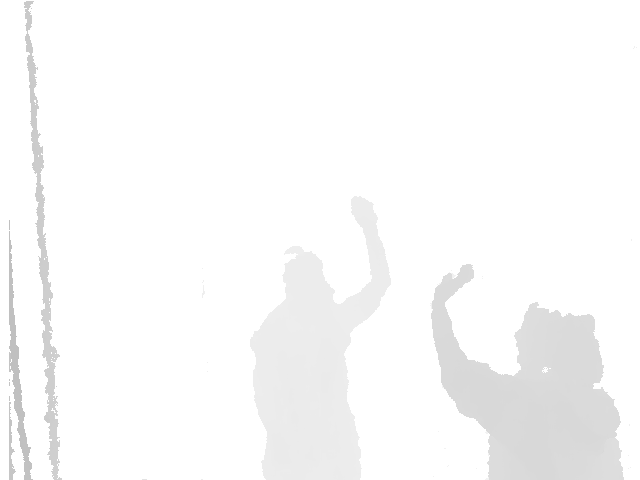hand: (431, 263, 475, 305), (350, 195, 379, 229)
head: (513, 300, 603, 383), (282, 245, 334, 303)
person: (431, 262, 626, 480), (248, 195, 389, 480)
